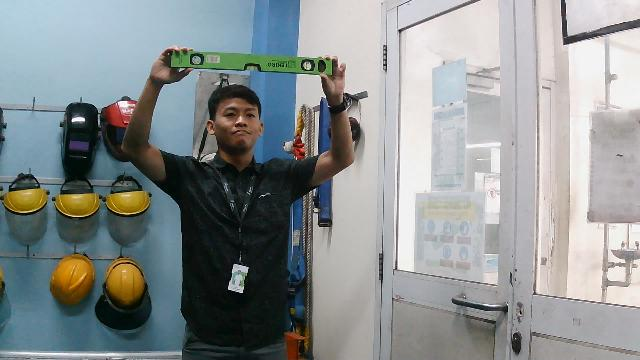water_pass: (159, 39, 339, 83)
